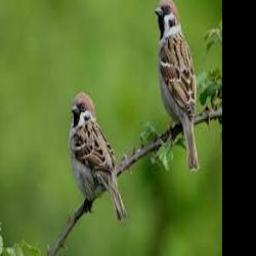Sparrow: (156, 0, 200, 172), (70, 91, 126, 221)
